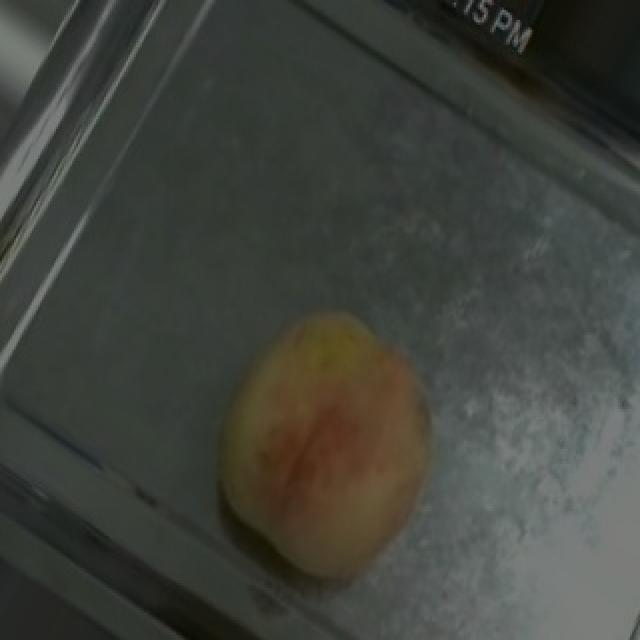Fruit: (170, 270, 494, 620)
